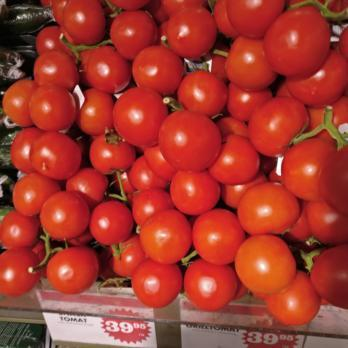Tomato: (55, 0, 348, 323), (2, 79, 65, 295)
